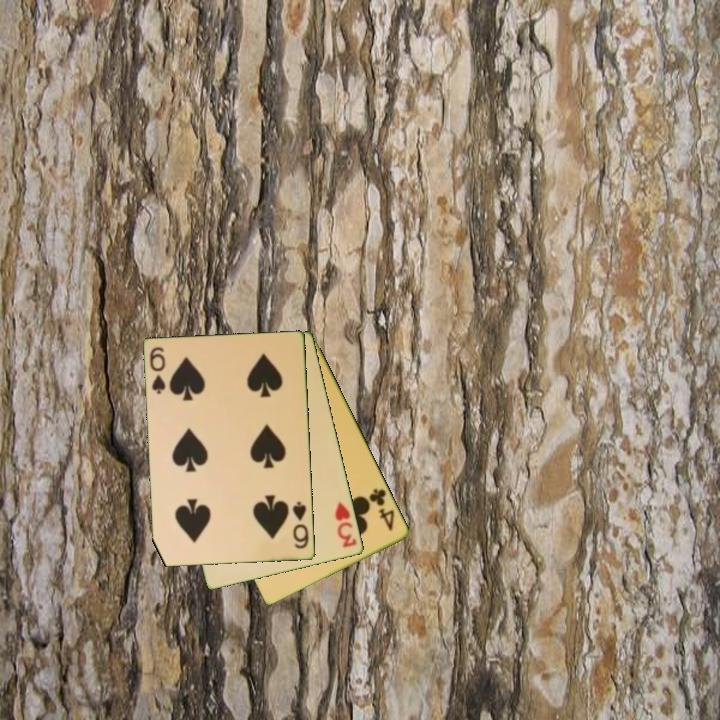3h: (332, 499, 360, 551)
4c: (366, 485, 398, 534)
6s: (146, 343, 169, 397), (290, 498, 312, 552)
